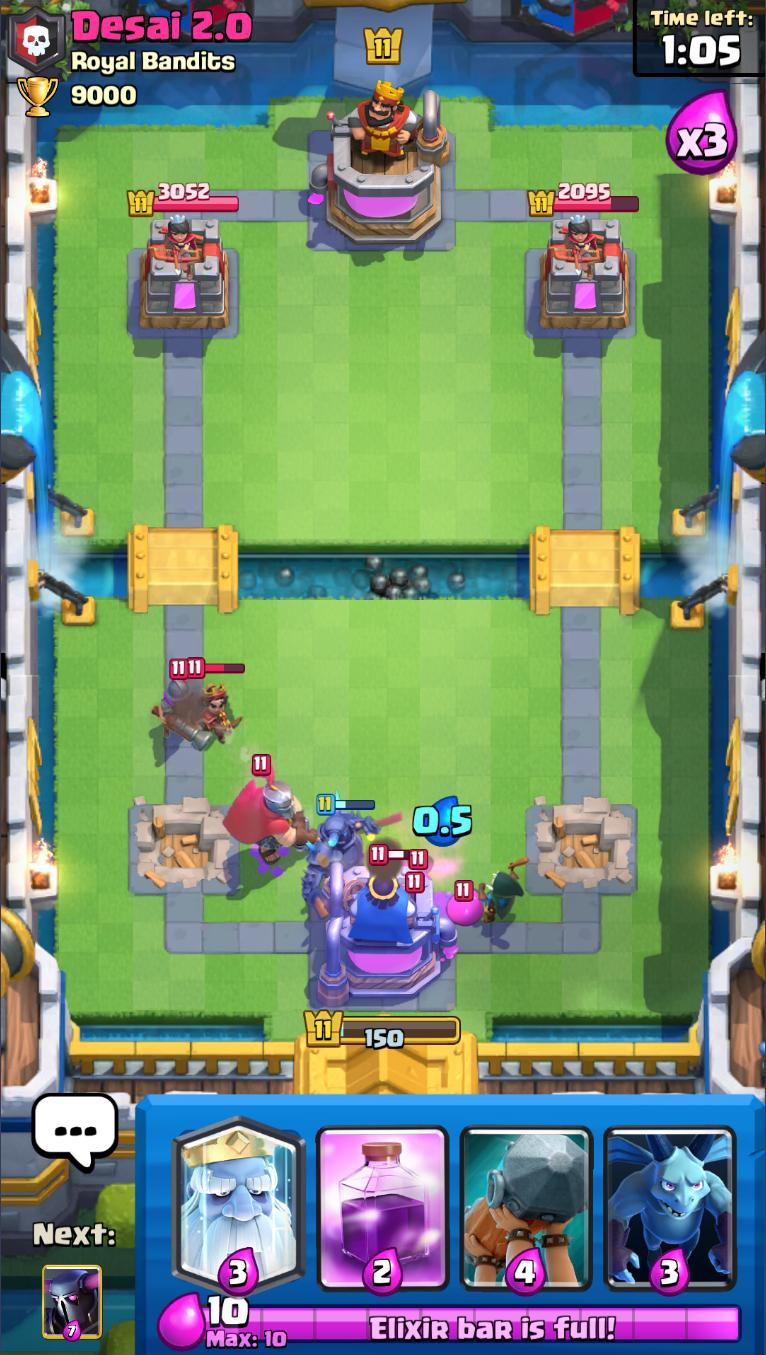BattleRamDeck: (455, 1096, 598, 1299)
Elixir: (202, 1295, 743, 1351)
ElixirGolemMicro: (445, 880, 486, 928), (406, 849, 432, 879)
EnemyTower: (536, 215, 633, 333), (136, 215, 231, 333)
KingTower: (310, 77, 453, 248)
LittlePrince: (187, 659, 247, 747)
LittlePrinceGuard: (223, 753, 317, 866)
MinionsDeck: (598, 1094, 743, 1296)
Musketeer: (151, 658, 212, 746)
MyBandit: (477, 858, 530, 923)
MyKingHP: (302, 1006, 462, 1050)
MyKingTower: (316, 858, 459, 1009)
MyPekka: (303, 793, 404, 921)
MyPrincessTowerBrocken: (524, 801, 639, 900), (127, 801, 241, 896)
PekkaNext: (42, 1264, 104, 1342)
PrincessTower: (550, 214, 605, 276), (151, 215, 206, 275)
RageDeck: (312, 1096, 456, 1297)
RoyaleGhostDeck: (167, 1095, 312, 1295)
TowerPrincessHP: (527, 180, 641, 217), (126, 182, 240, 219)
